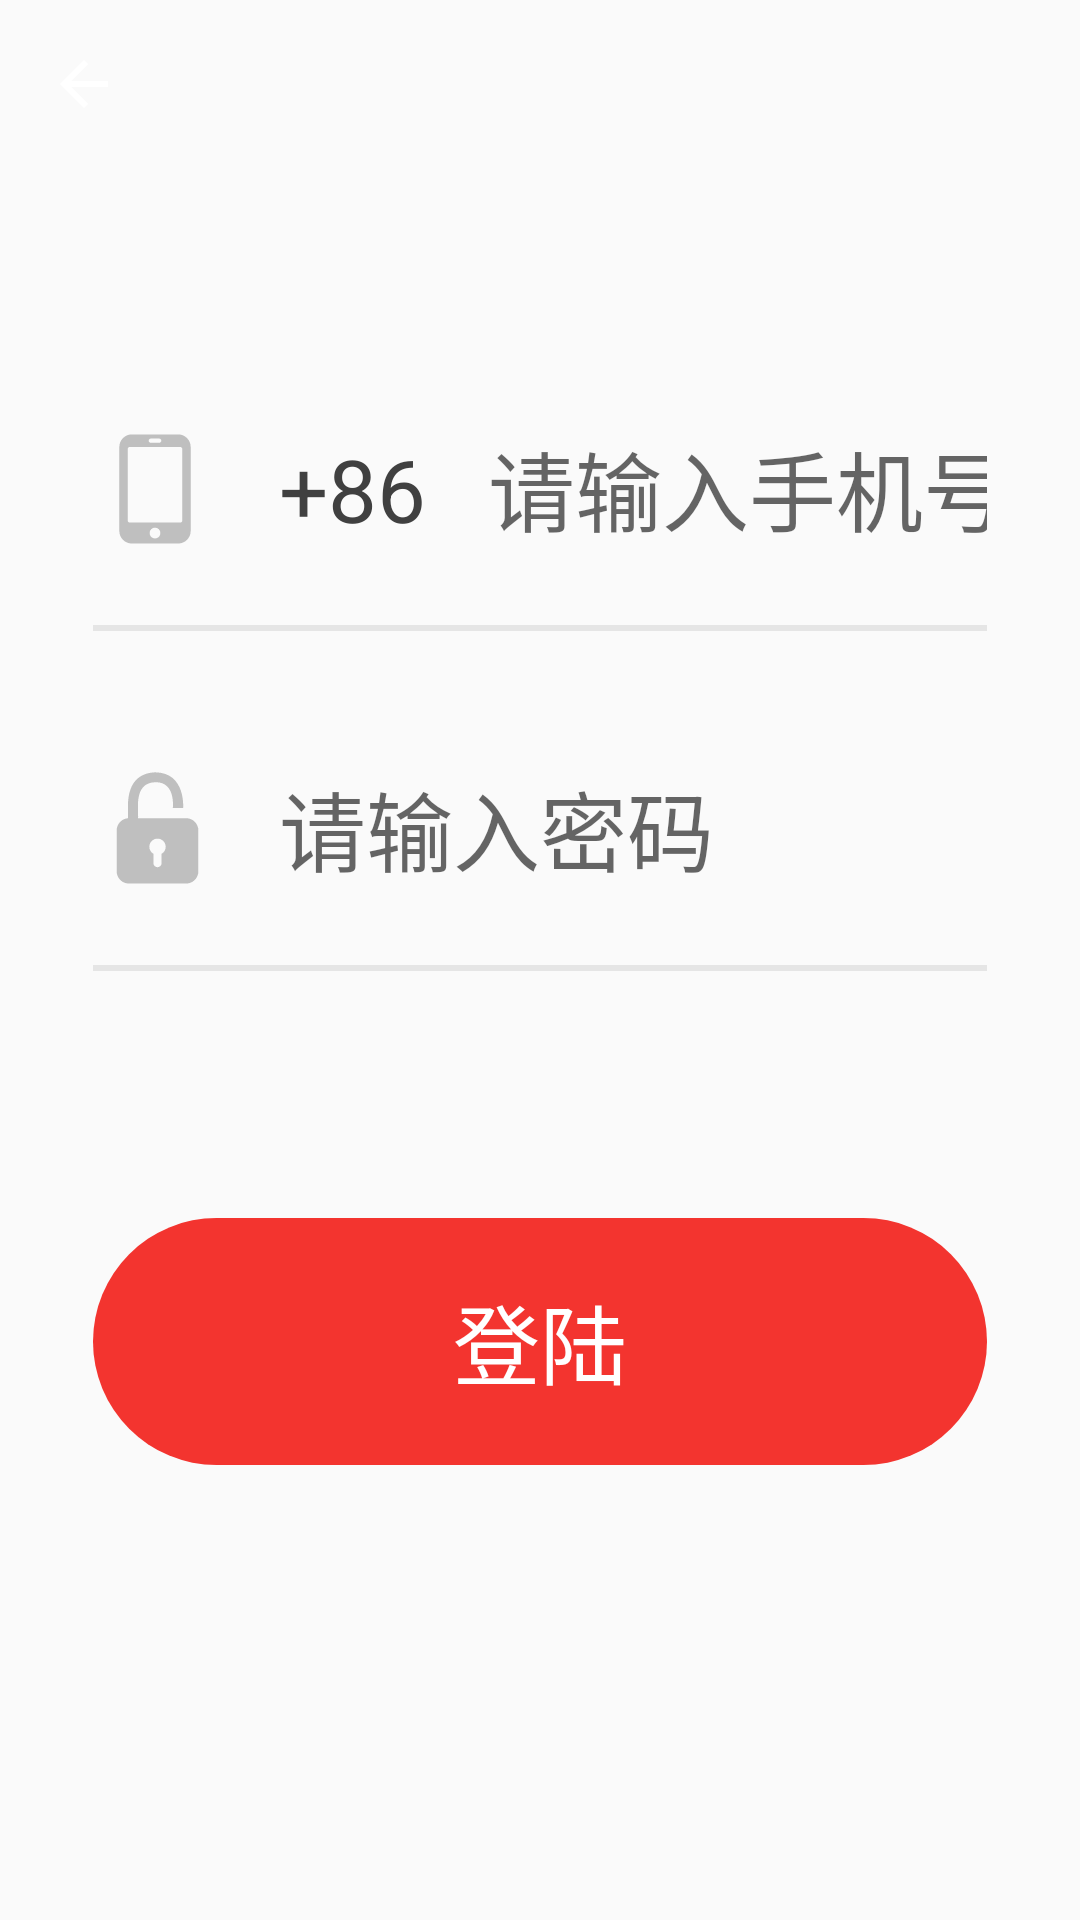

Icon click points for this 1080x1920 phone screenshot, format point (x, y):
login password: point (157, 828)
login phone: point (155, 489)
